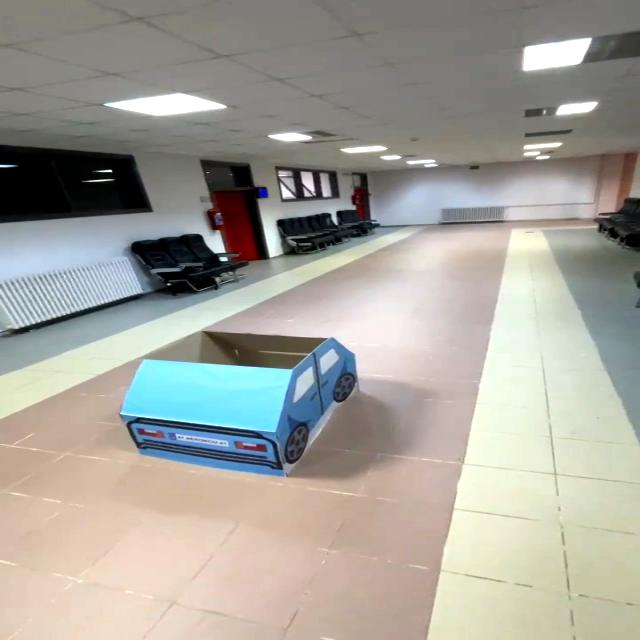blue_car: (93, 312, 399, 482)
